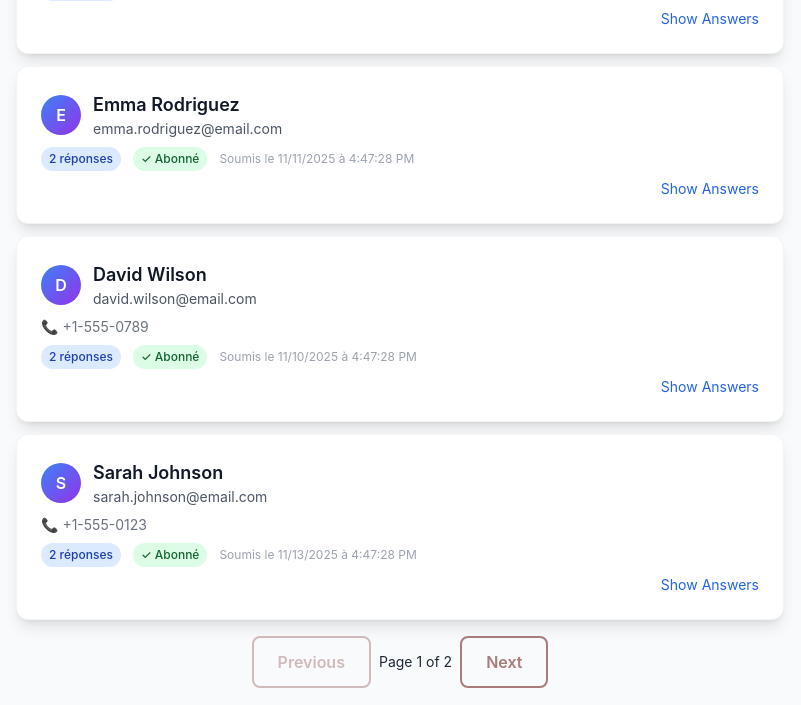
Test: ResultsDashboard component › renders submissions list and pagination controls
(page scrolled)
Expected: the text "Page 1 of 2" is shown, 379,652 -> 452,672
Click the button "Next" at (504, 662), box 460,636 -> 548,688
(page scrolled)
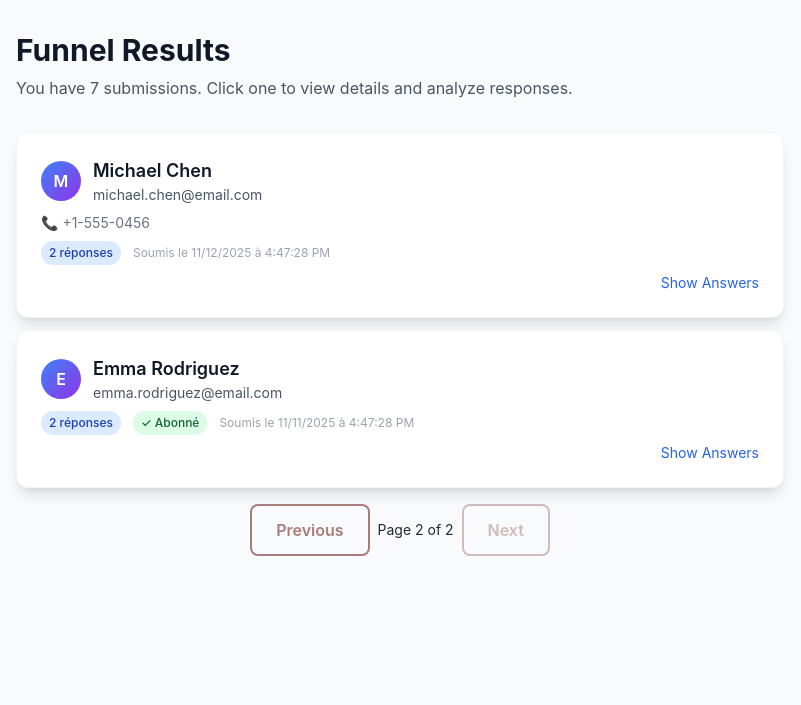
Expected: the text "Michael Chen" is shown, 93,160 -> 212,181
Now the text "Page 2 of 2" is shown, box 378,520 -> 454,540
